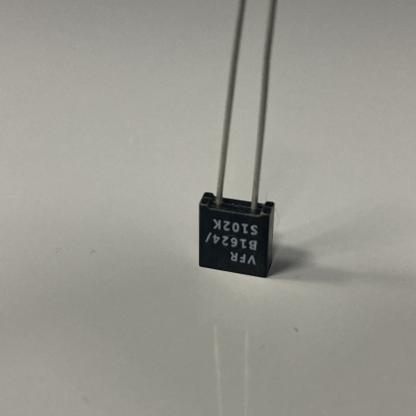SP0000008: (150, 0, 359, 347)
